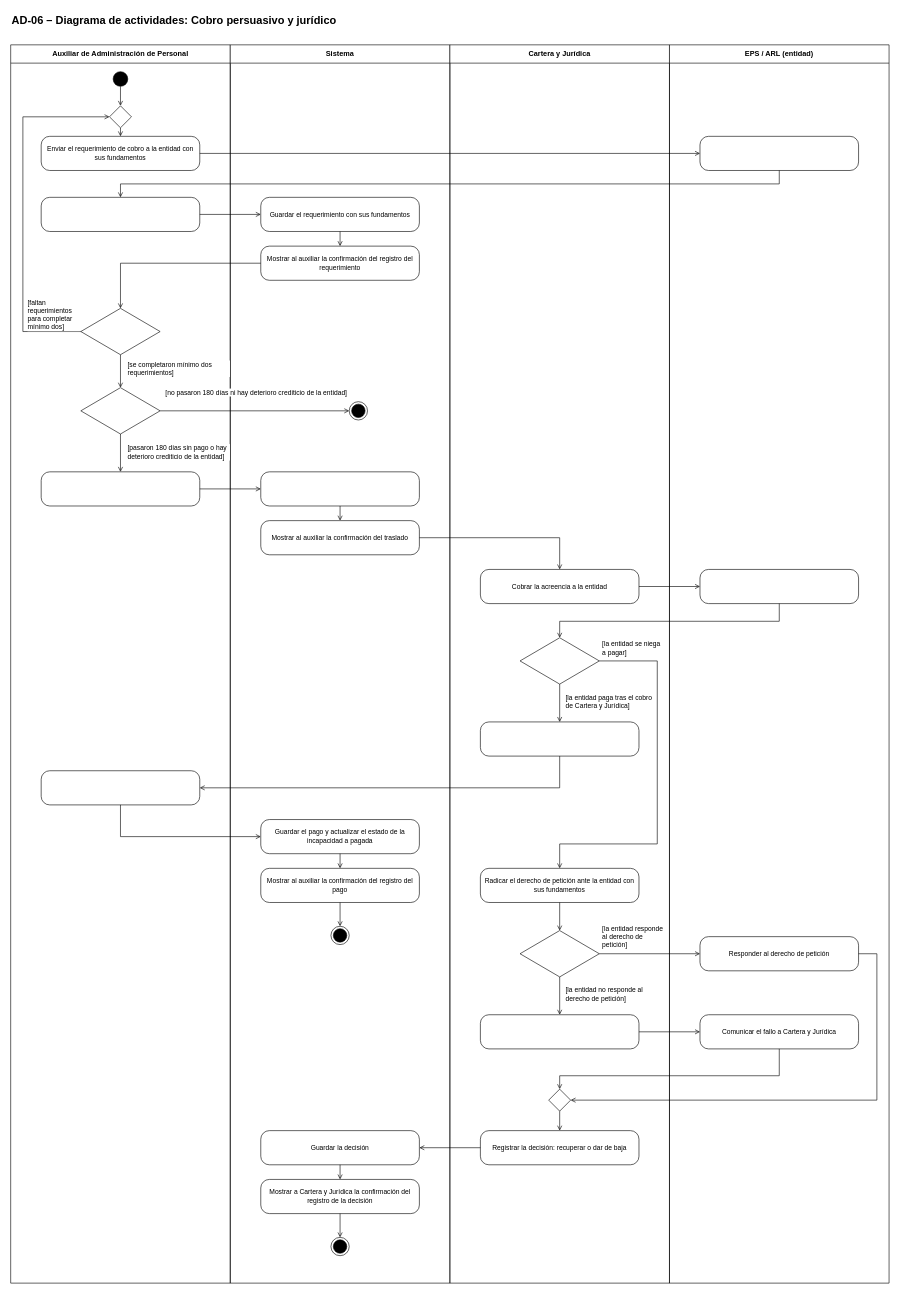
This 900x1294 diagram has some shape labels left out. Each missing label, with the centre of its shape:
"Guardar el traslado y notificar el traslado a Cartera y Jurídica" goes at pixel 339 488.
"Informar al auxiliar el pago de la entidad" goes at pixel 559 738.
"Radicar la acción de tutela ante la entidad" goes at pixel 559 1031.
"Registrar el pago con su valor" goes at pixel 120 787.
"Registrar el requerimiento" goes at pixel 120 214.
"Responder al cobro de Cartera y Jurídica" goes at pixel 779 586.
"Responder al requerimiento" goes at pixel 779 153.
"Trasladar la incapacidad a Cartera y Jurídica indicando el motivo" goes at pixel 120 488.
